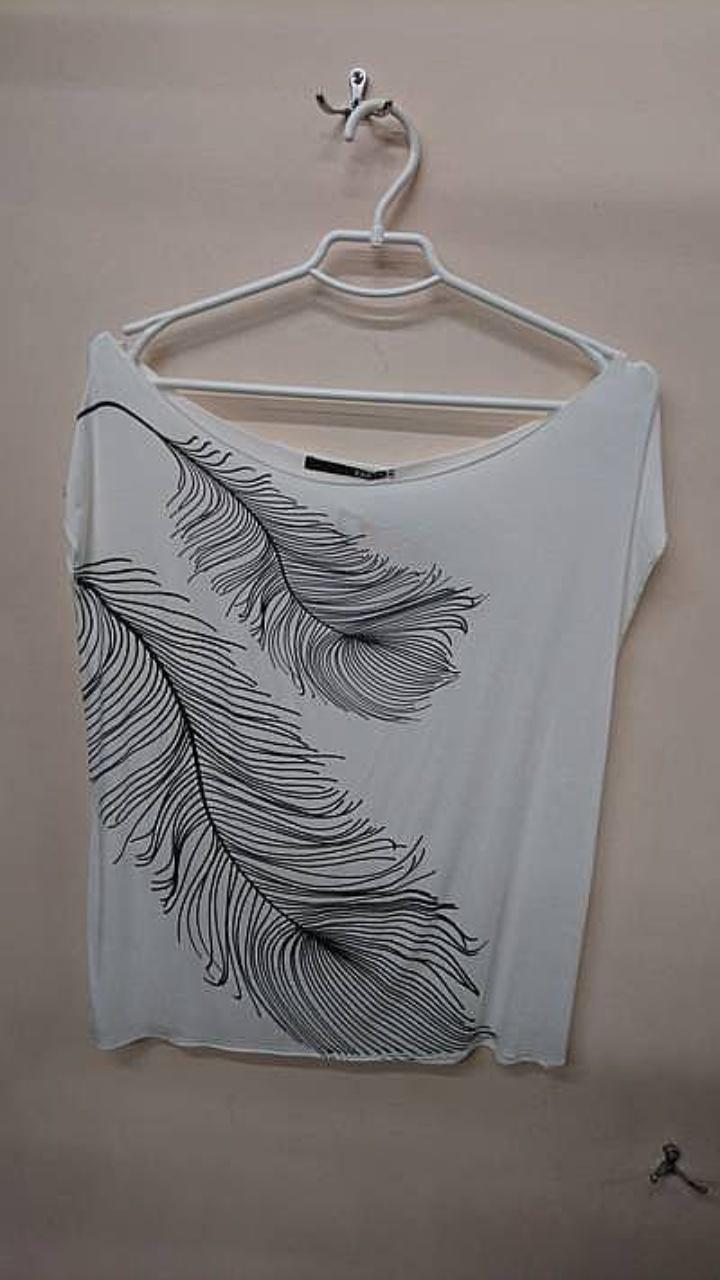T-Shirt: (64, 331, 666, 1066)
